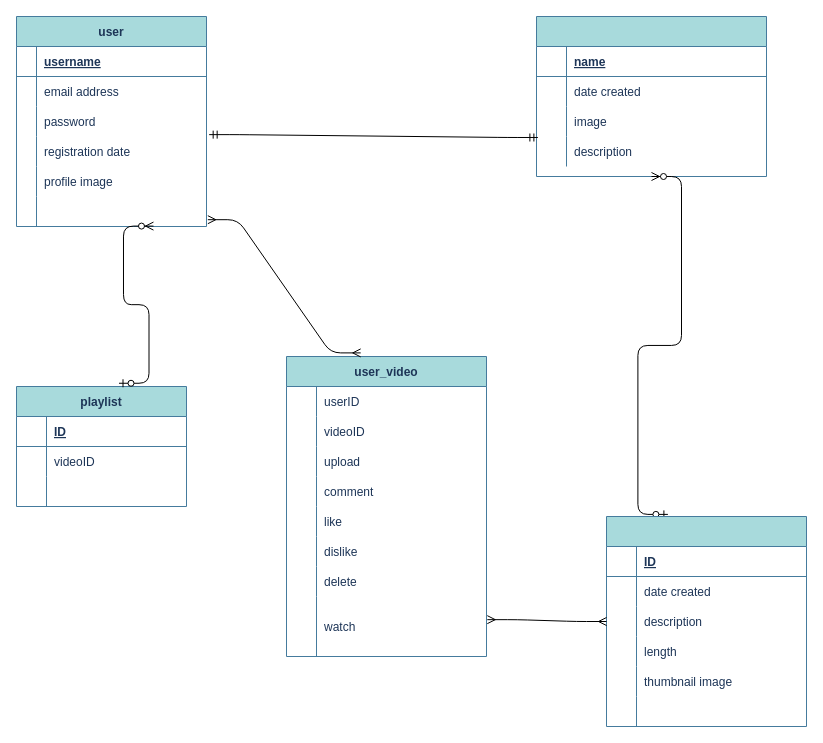
The diagram is 823 pixels wide and 743 high, and some of its shapes have lost their labels. Here are the shapes that lost their labels. From the top down, the box of each, then its label:
(536, 16, 766, 176): channel
(606, 516, 806, 726): video
